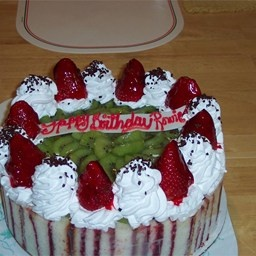background: (0, 23, 91, 102)
